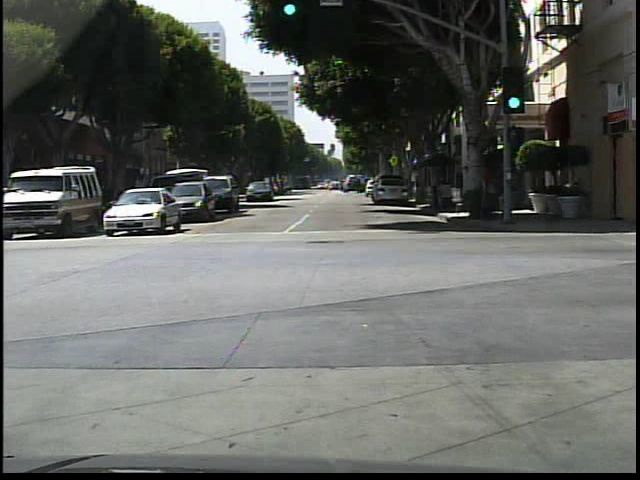person: (495, 161, 508, 221), (430, 169, 444, 212), (278, 180, 285, 195)
